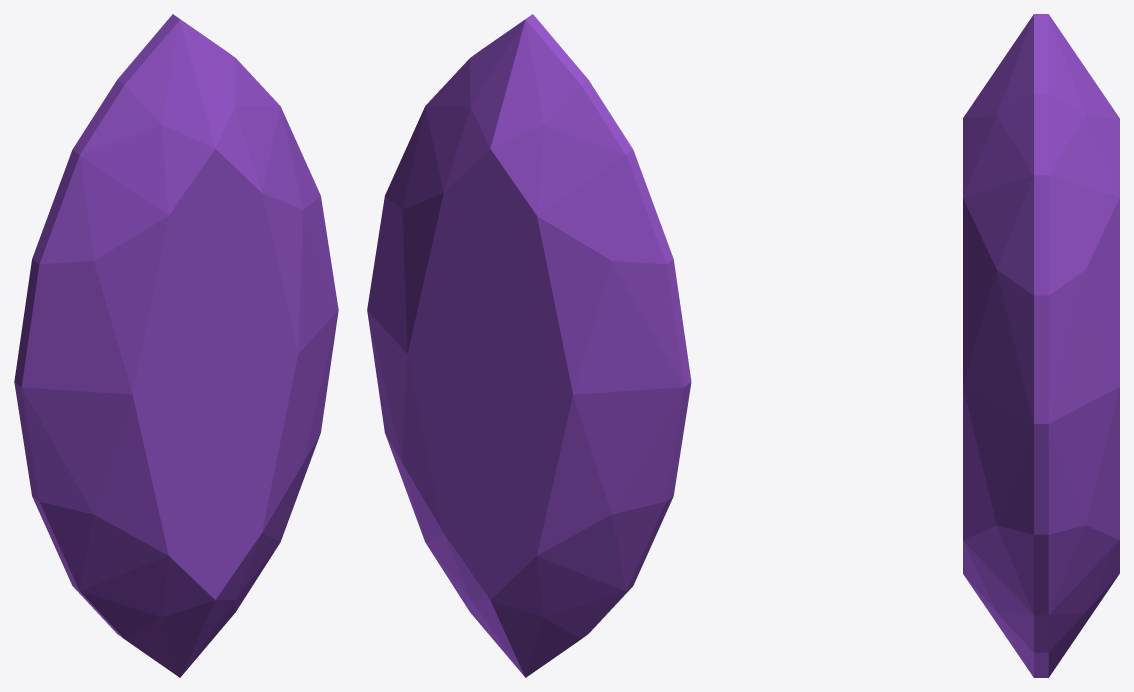
File: piedrita.gltf
The picture shows the model from 3 angles, left to right: view 1: azimuth 30°, elevation 25°; view 2: azimuth 150°, elevation 25°; view 3: azimuth 270°, elevation 25°; orthographic projection.
Visible parts, largest first — view 1: Box001; view 2: Box001; view 3: Box001.
Boxes of the visible parts, x1,y1,x2,y2 form: Box001: [14, 14, 338, 677]; Box001: [367, 14, 691, 677]; Box001: [963, 14, 1119, 677].
Bounding box in the file's own units: 7.07 × 14.03 × 6.89.
